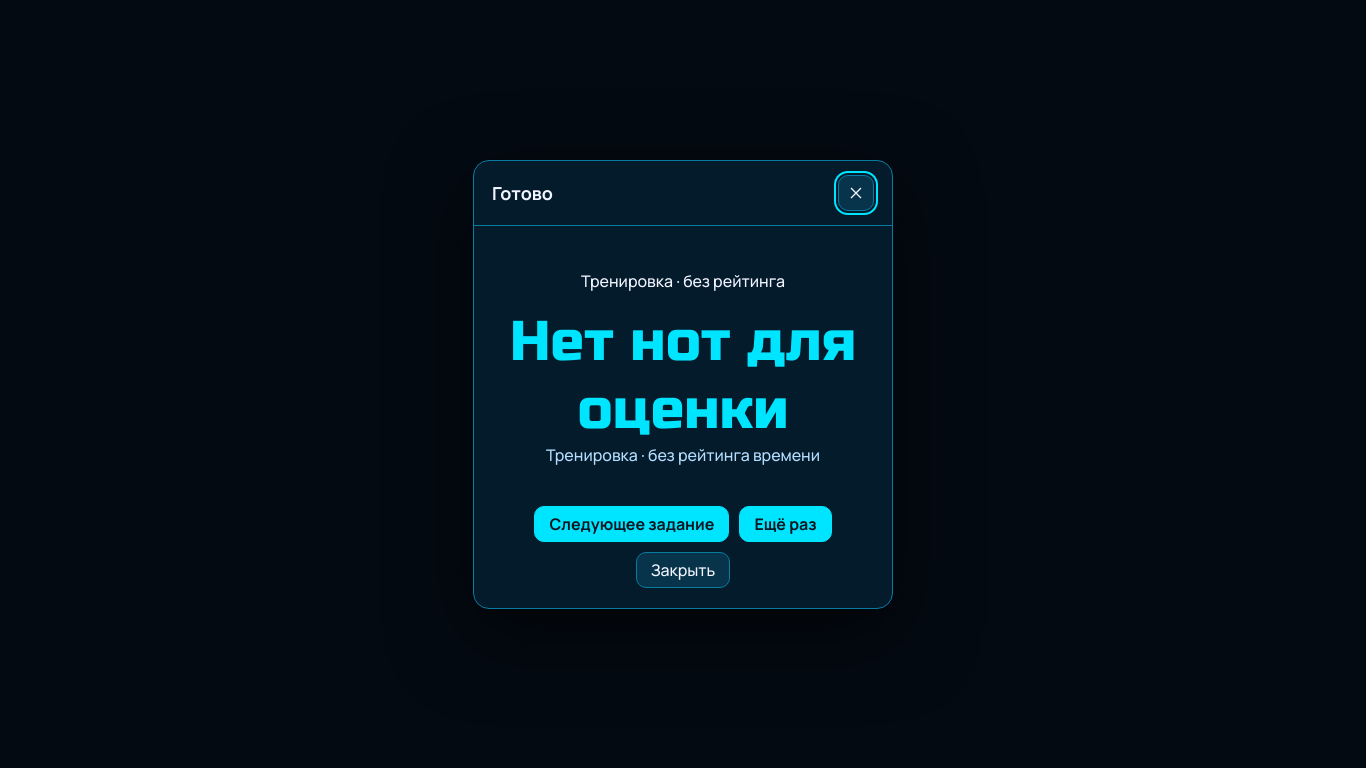
Test: course cards and exercise controls › offers the next exercise without starting it automatically
The width and height of the screenshot is (1366, 768).
Click the button "Следующее задание" at [632, 524], box [534,506,729,542]
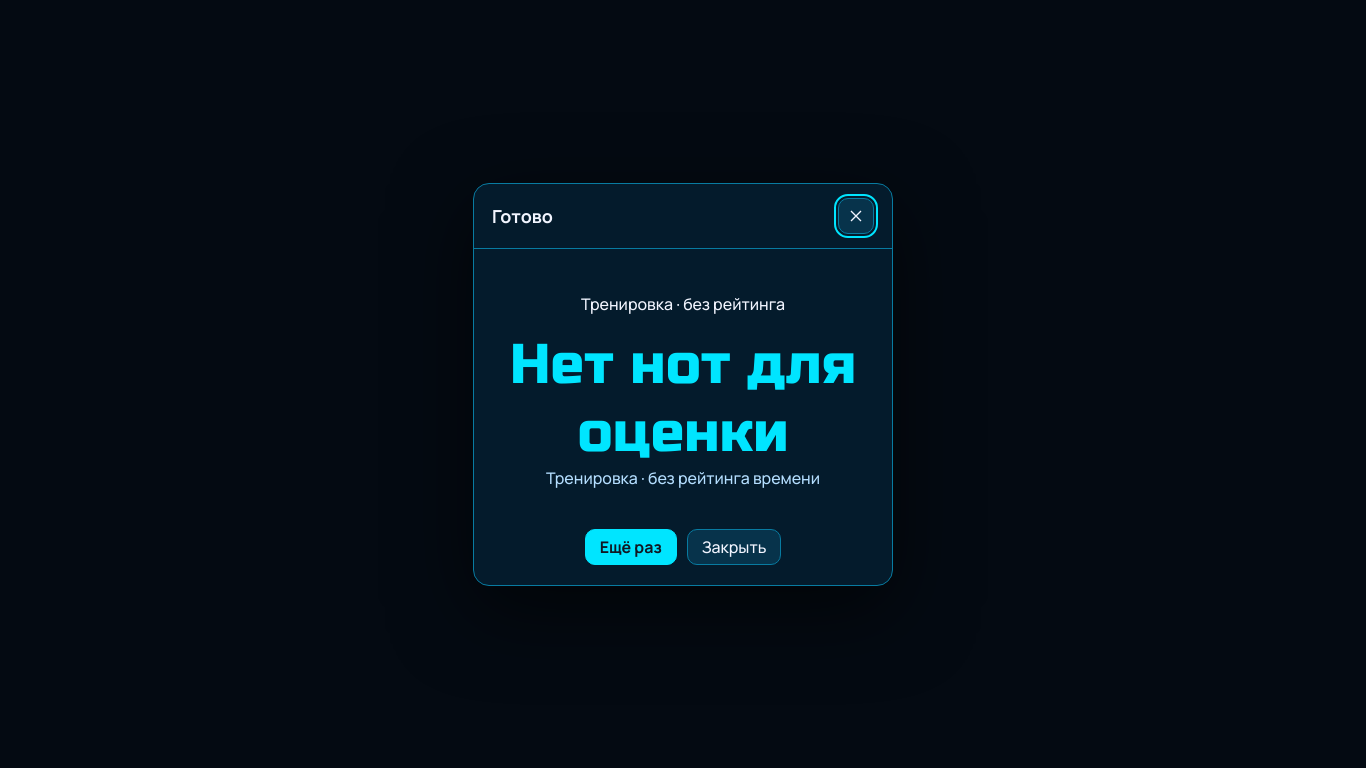
Now the text "Следующее задание" is gone
